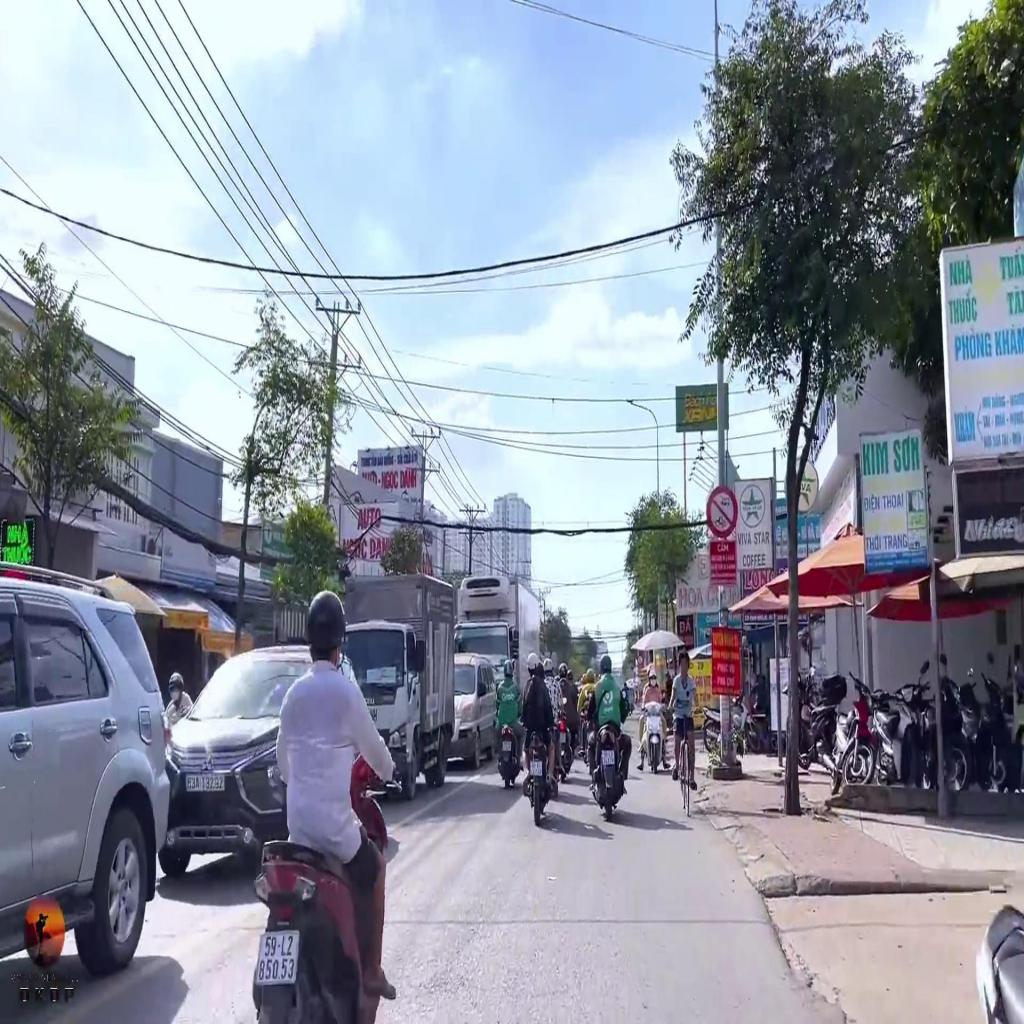cam_cac_loai_xe_3_banh: (708, 484, 737, 536)
